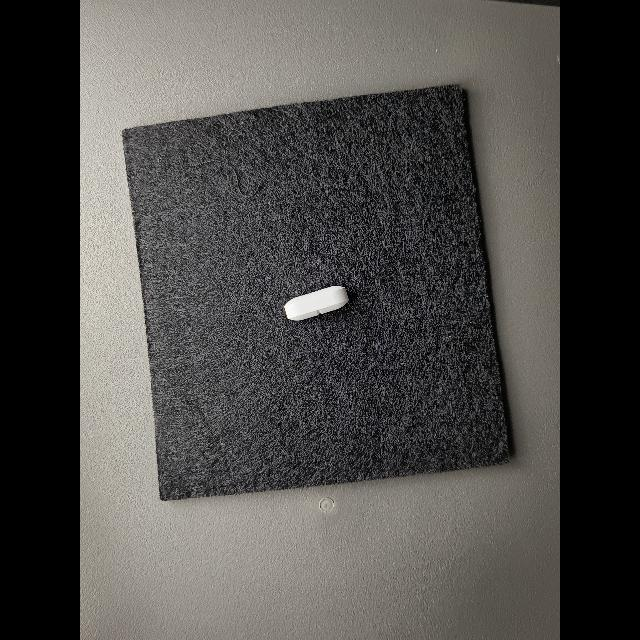Intact Pill: (284, 286, 349, 321)
